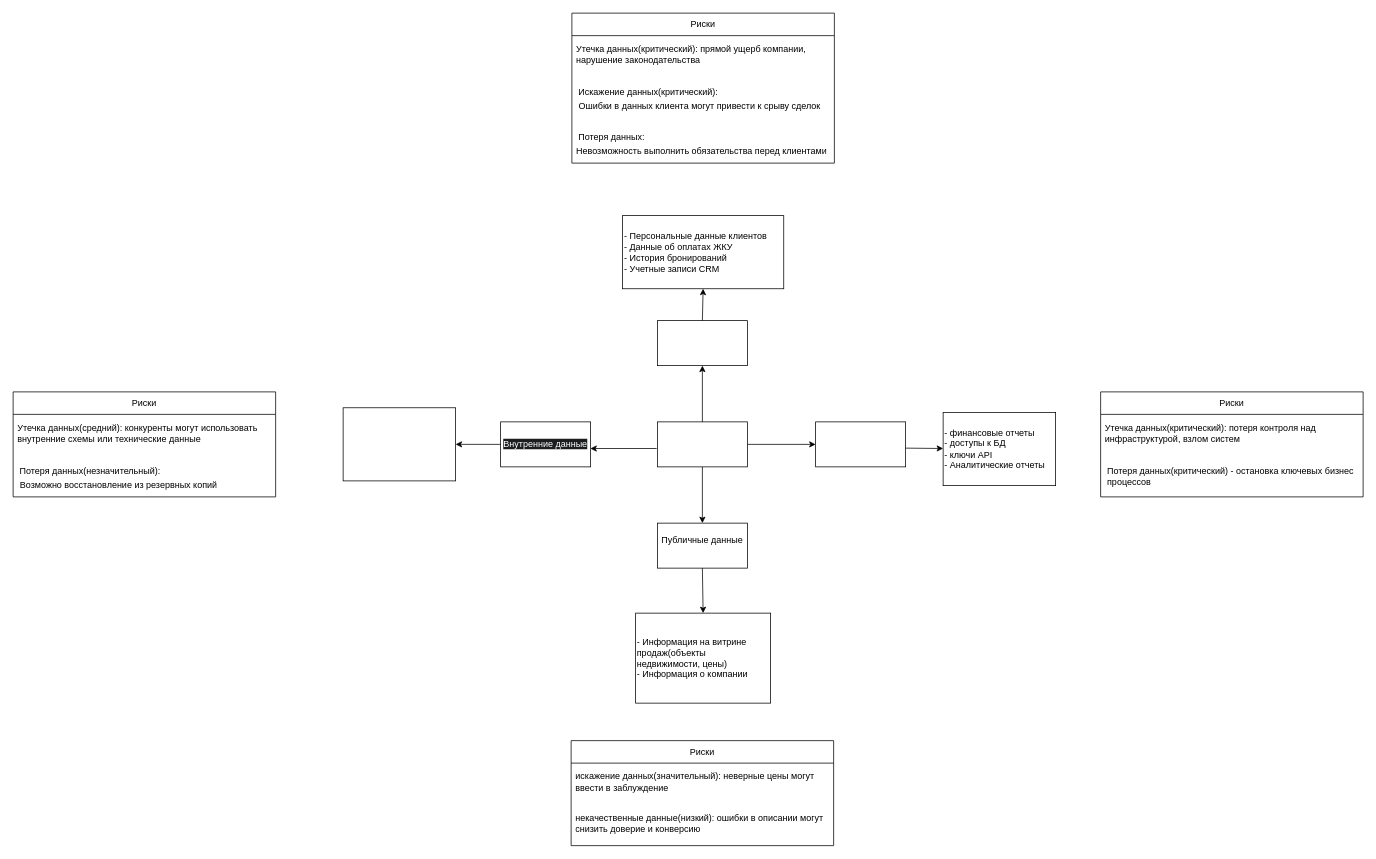
This 1376x859 diagram has some shape labels left out. Here are the shapes that lost their labels. From the top down, the centre of each, then its label:
At pixel 702 343: "Конфиденциальные данные".
At pixel 399 444: "- Документация сервисов - IT архитектура - База лидов".
At pixel 702 444: "Безопасность данных".
At pixel 860 444: "Секретные данные".
